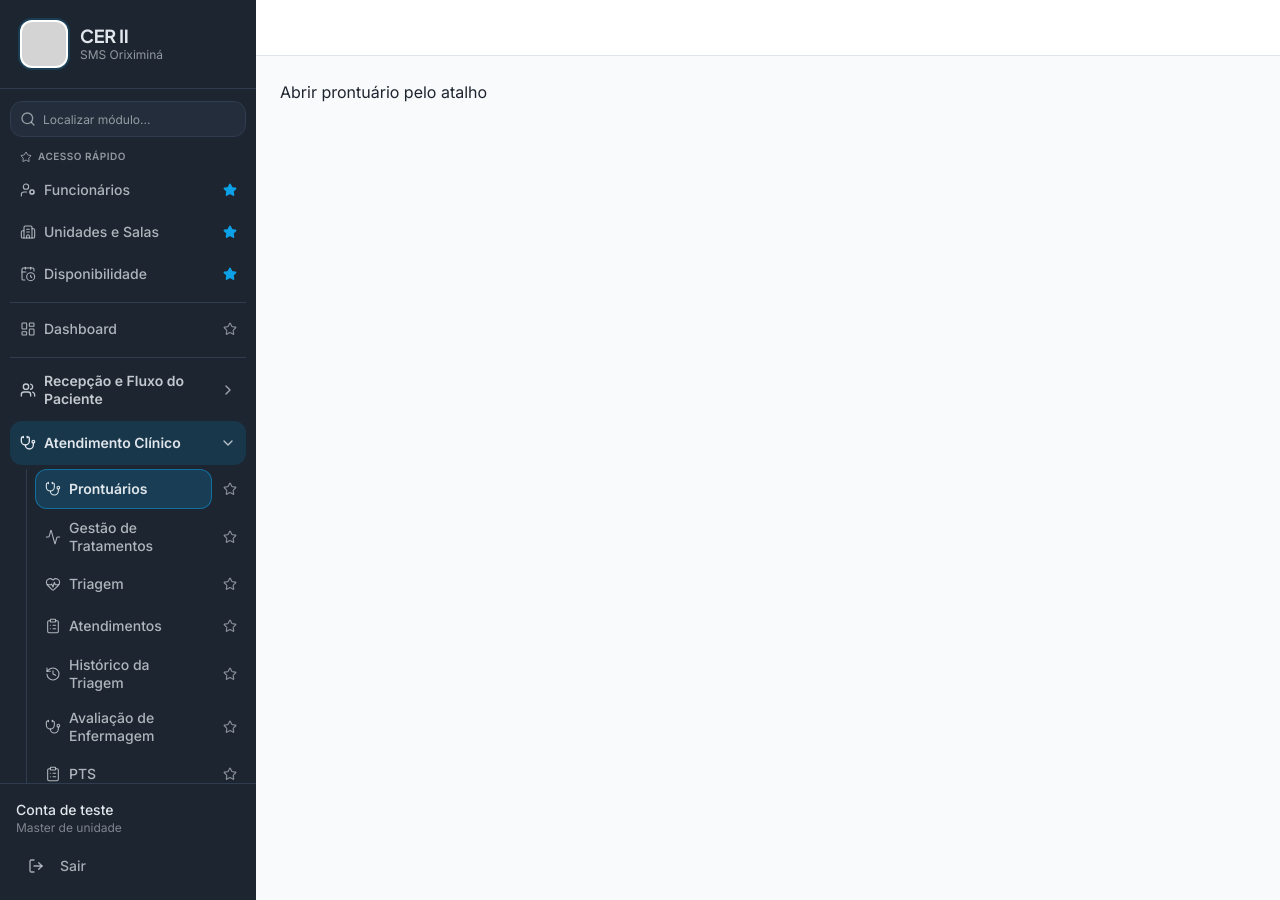
jornadas do menu lateral › abre o grupo da rota atual e reabre um grupo recolhido ao chegar por outro atalho
expect the text "Master de unidade" is shown: met, box [16, 820, 122, 835]
Step 1. Click the button "Atendimento Clínico" → (128,443), box [10, 421, 246, 465]
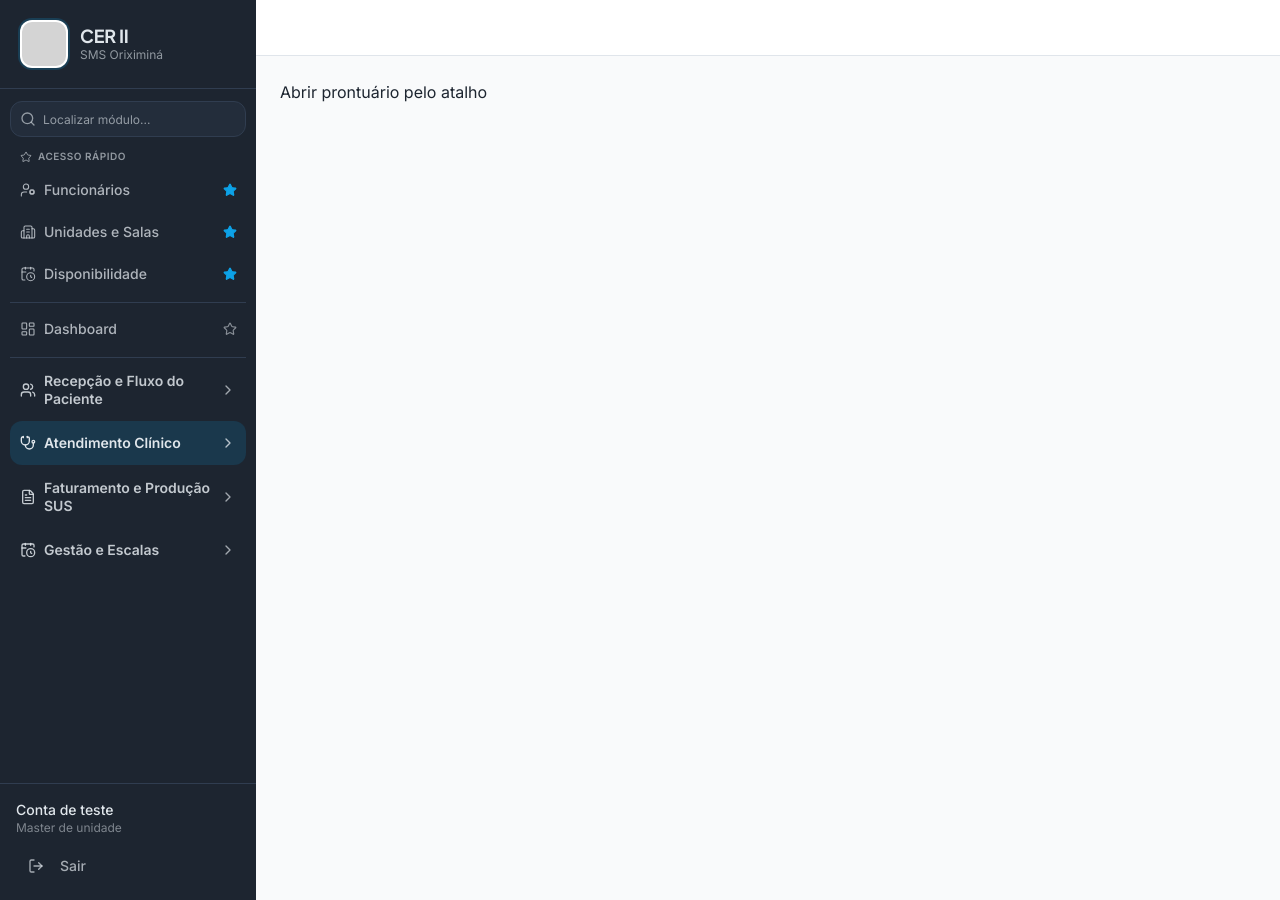
expect the button "Atendimento Clínico" is collapsed: met, box [10, 421, 246, 465]
expect the link "Prontuários" is gone: met
Step 2. Click the link "Abrir prontuário pelo atalho" → (384,92), box [280, 82, 487, 102]
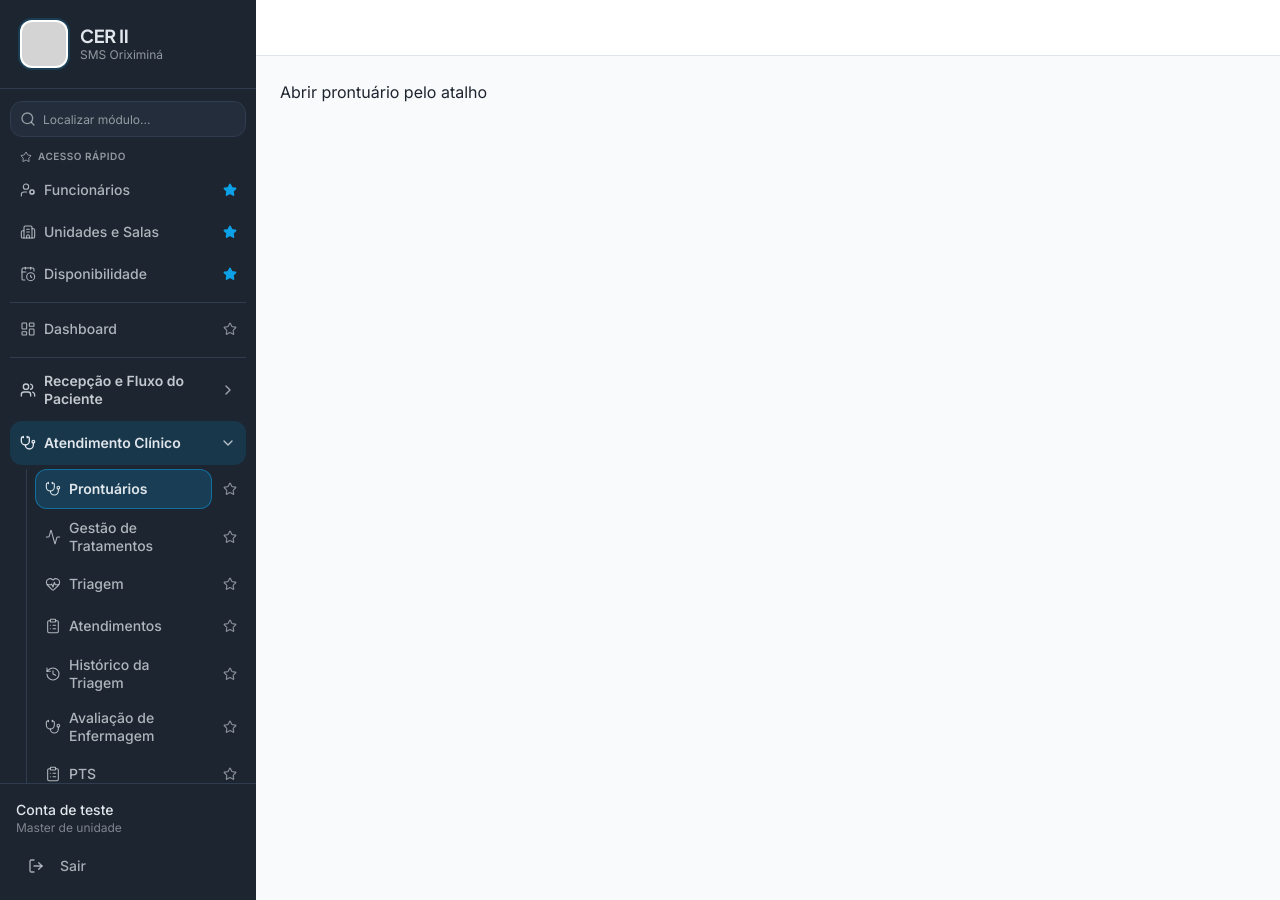
expect the button "Atendimento Clínico" is expanded: met, box [10, 421, 246, 465]
